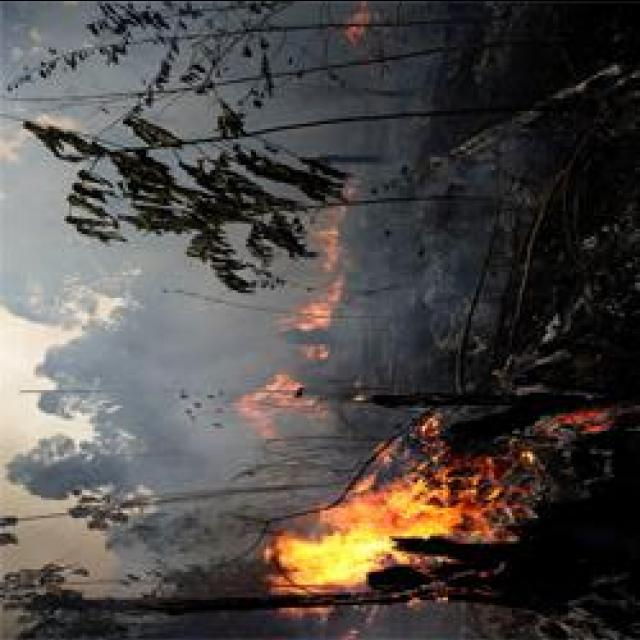fire: (276, 486, 418, 580)
smoke: (132, 310, 228, 382)
